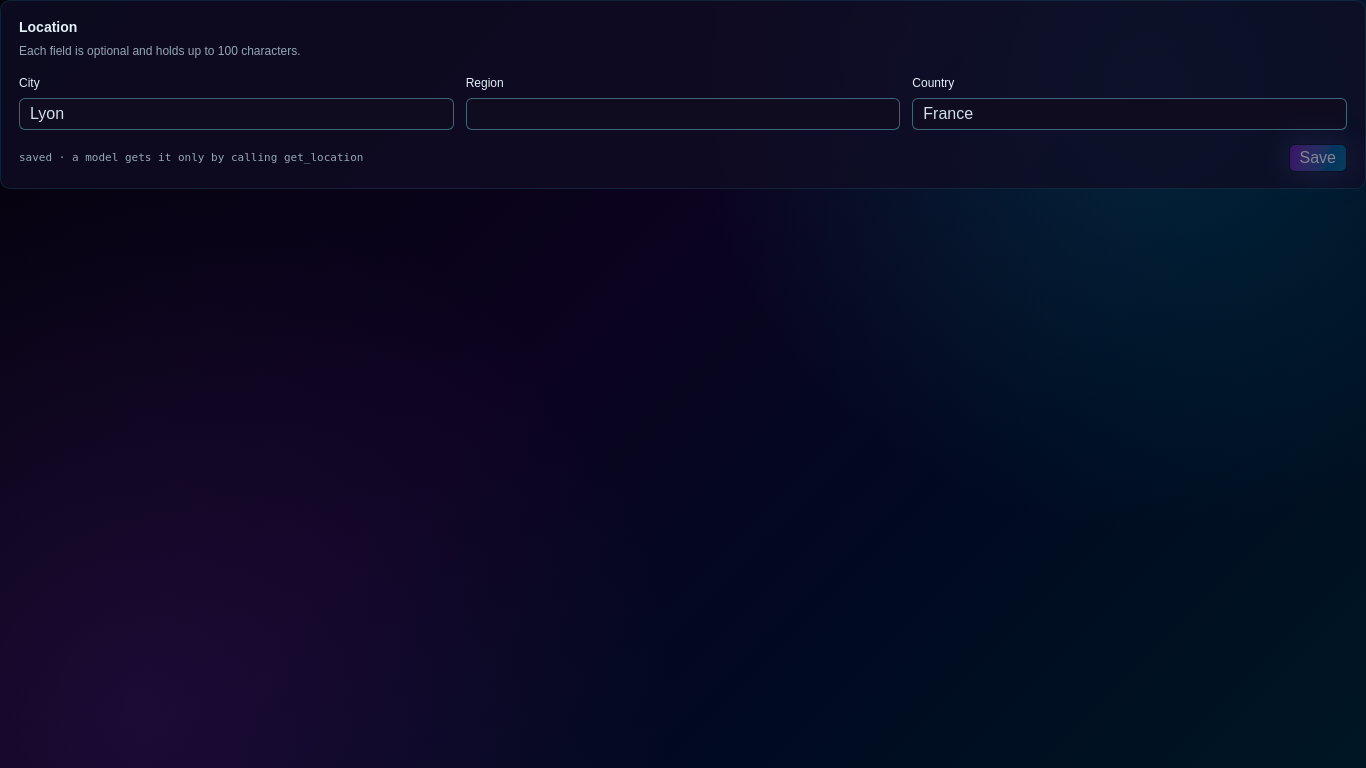
Scenario: LocationCard › keeps an edit typed while the save ran once the save succeeds
Replace the text in the field labelled "City" with "Grenoble". click: [236, 114]
box: 19,98 -> 454,130
Then press Enter
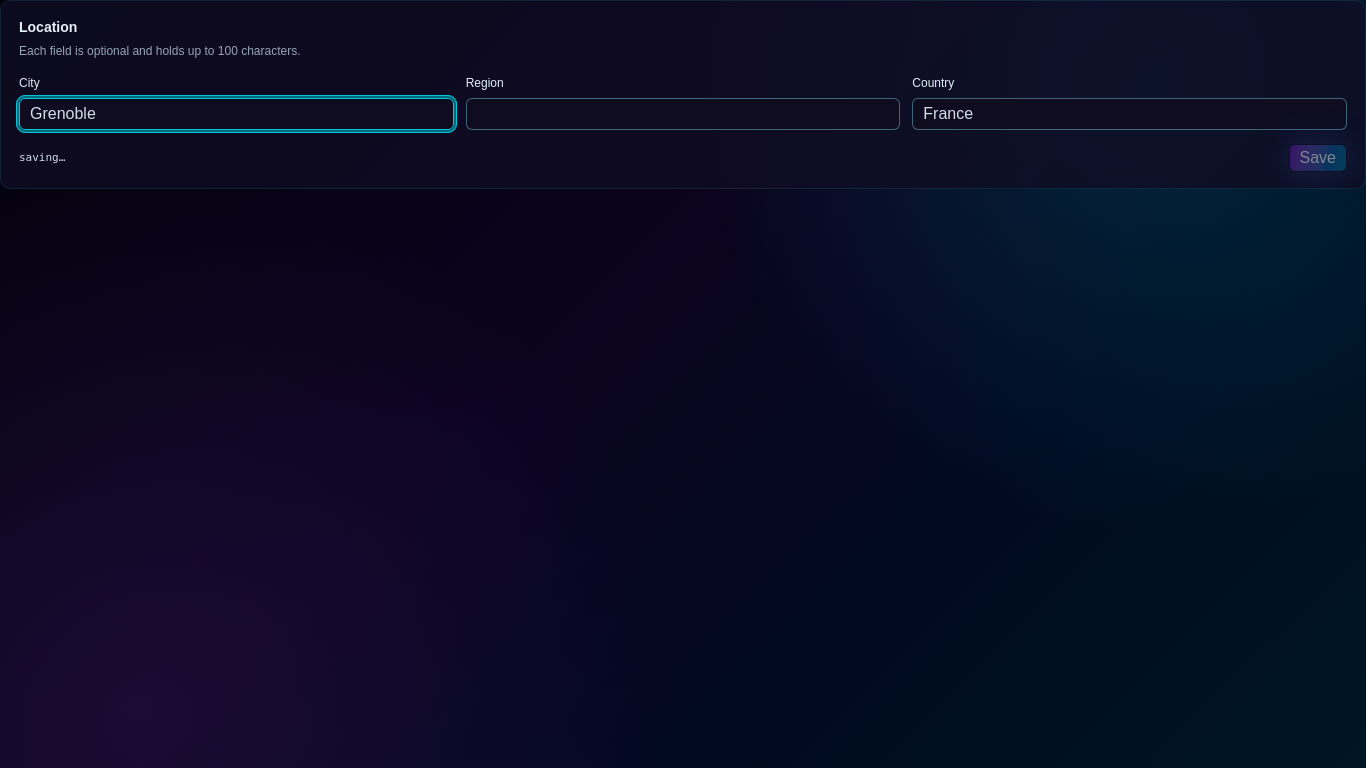
Type "Isère" into the field labelled "Region". click: [683, 114]
box: 466,98 -> 900,130
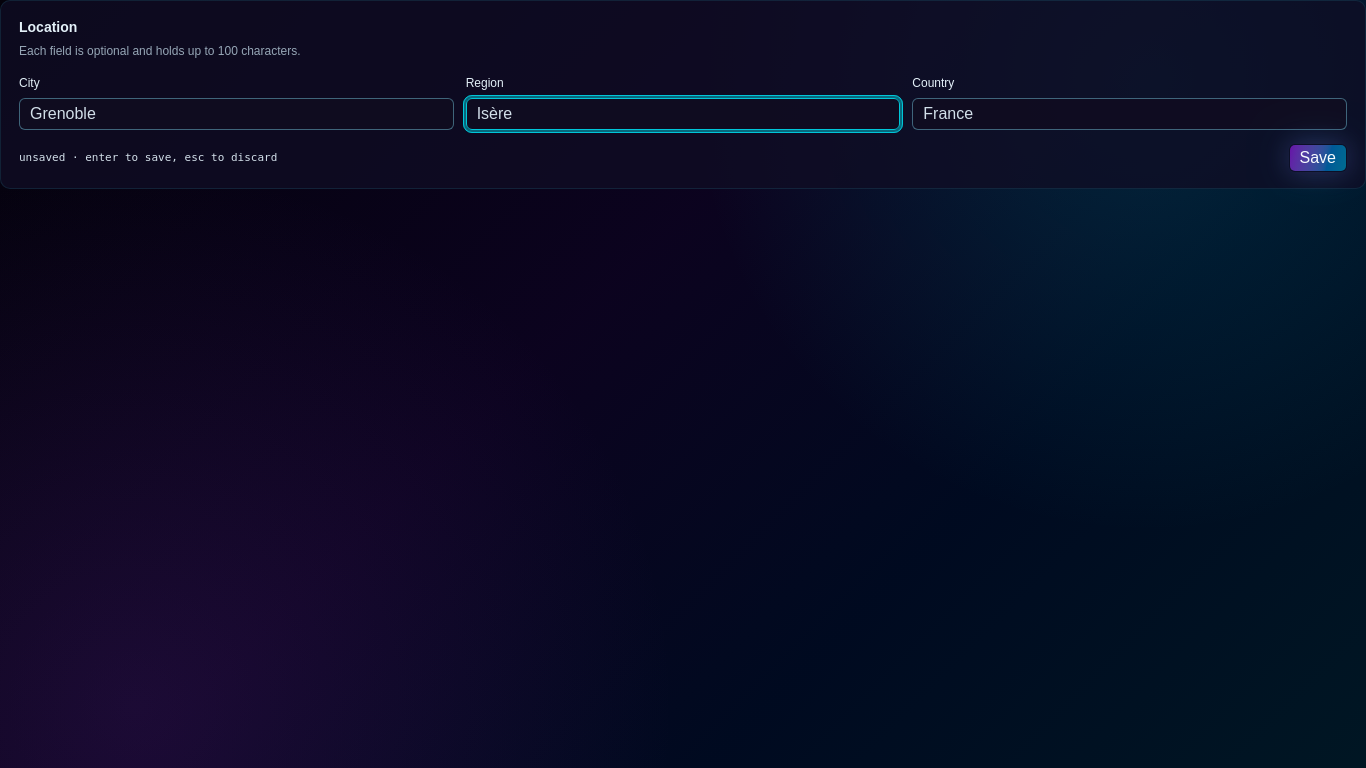
expect the message reads "unsaved · enter to save, esc to discard": met, box 19,151 -> 277,164
expect the button "Save" is enabled: met, box 1288,144 -> 1347,172
